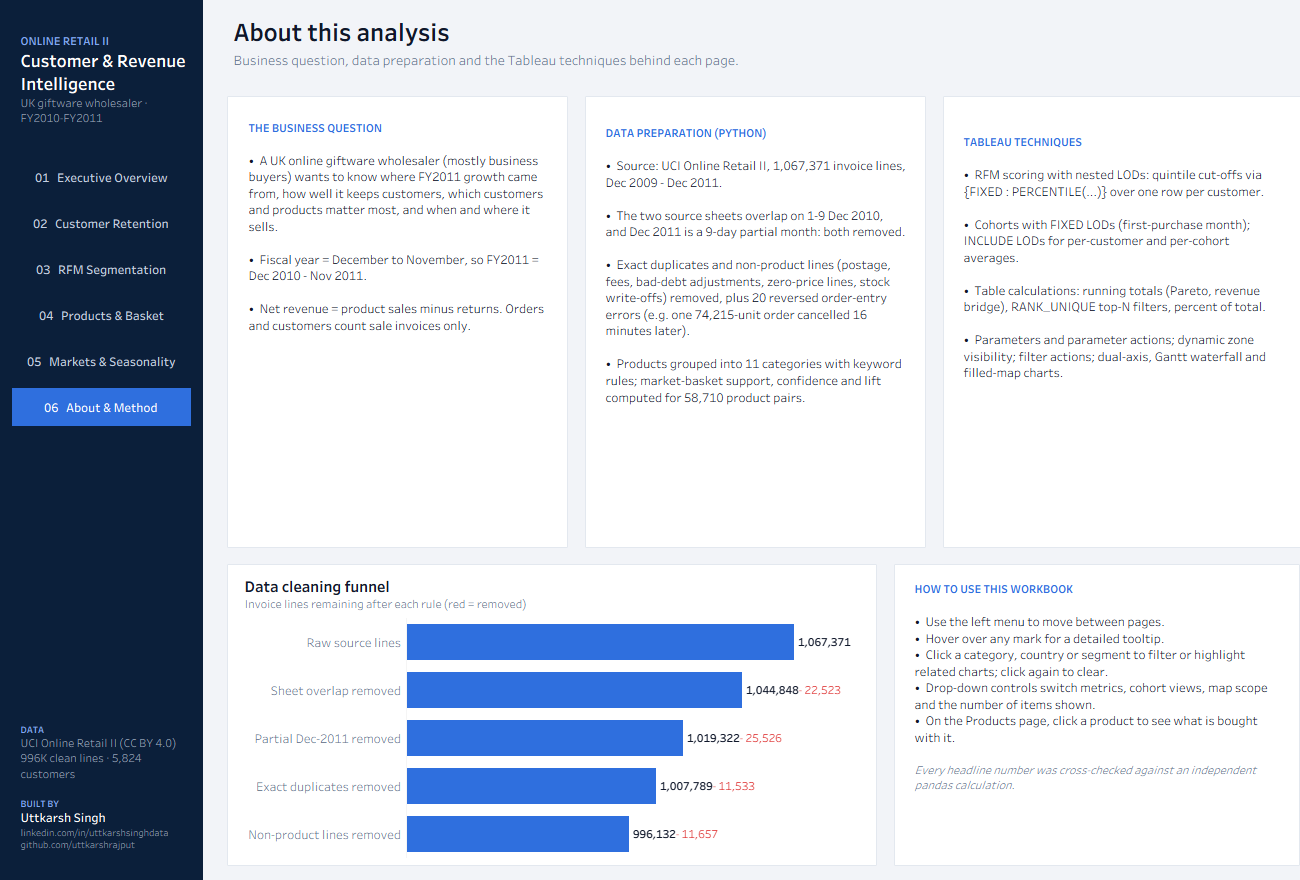

This screenshot's page, from the dashboard's own definition file:
{"tool":"tableau","page":{"name":"About & Method","canvas":[1300,880],"ordinal":5},"visuals":[{"type":"blank","box":[0,0,200,880]},{"type":"text","box":[224,14,820,34]},{"type":"text","box":[14,22,180,118]},{"type":"text","box":[224,48,980,24]},{"type":"blank","box":[224,96,336,452]},{"type":"blank","box":[576,96,336,452]},{"type":"blank","box":[928,96,352,452]},{"type":"text","box":[238,108,308,260]},{"type":"text","box":[590,108,308,339]},{"type":"text","box":[942,108,324,323]},{"type":"dashboard-object","box":[12,158,176,38]},{"type":"dashboard-object","box":[12,204,176,38]},{"type":"dashboard-object","box":[12,250,176,38]},{"type":"dashboard-object","box":[12,296,176,38]},{"type":"dashboard-object","box":[12,342,176,38]},{"type":"dashboard-object","box":[12,388,176,38]},{"type":"blank","box":[224,564,640,302]},{"type":"blank","box":[880,564,400,302]},{"type":"text","box":[234,572,620,44]},{"type":"text","box":[894,576,372,228]},{"type":"worksheet","title":"Data Cleaning Funnel","mark":"Bar","rows":["Step"],"cols":["Rows Remaining"],"box":[232,618,624,240]},{"type":"text","box":[14,712,180,156]}]}

Visuals, with their boxes on the page's 1300x880 design canvas (x1, y1, x2, y2). These are canvas units, not pixel positions in the 1300x880 screenshot, which may show the page scaled, cropped or inside an application window:
blank: select_region(0, 0, 200, 880)
text: select_region(224, 14, 1044, 48)
text: select_region(14, 22, 194, 140)
text: select_region(224, 48, 1204, 72)
blank: select_region(224, 96, 560, 548)
blank: select_region(576, 96, 912, 548)
blank: select_region(928, 96, 1280, 548)
text: select_region(238, 108, 546, 368)
text: select_region(590, 108, 898, 447)
text: select_region(942, 108, 1266, 431)
dashboard-object: select_region(12, 158, 188, 196)
dashboard-object: select_region(12, 204, 188, 242)
dashboard-object: select_region(12, 250, 188, 288)
dashboard-object: select_region(12, 296, 188, 334)
dashboard-object: select_region(12, 342, 188, 380)
dashboard-object: select_region(12, 388, 188, 426)
blank: select_region(224, 564, 864, 866)
blank: select_region(880, 564, 1280, 866)
text: select_region(234, 572, 854, 616)
text: select_region(894, 576, 1266, 804)
"Data Cleaning Funnel" worksheet (Bar marks): select_region(232, 618, 856, 858)
text: select_region(14, 712, 194, 868)
